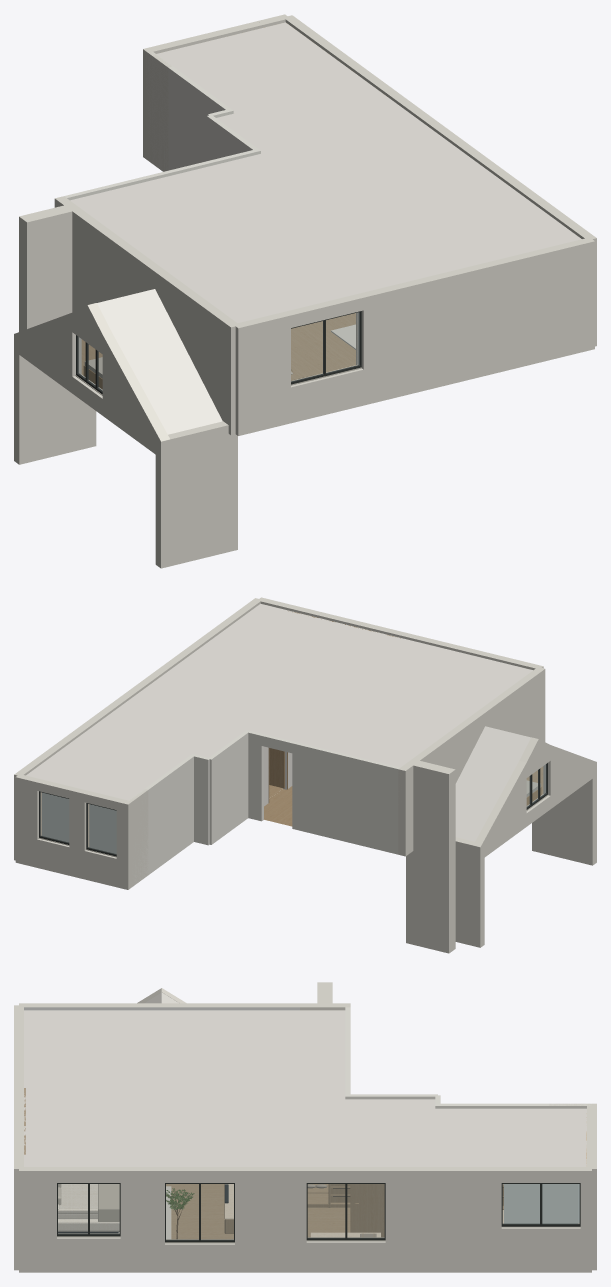
3 renders of one model, top to bottom at view 1: azimuth 30°, elevation 25°; view 2: azimuth 150°, elevation 25°; view 3: azimuth 270°, elevation 25°, orthographic. The views are drawn at different scales.
Parts seen in each view (by area): view 1: Bedroom 02 | ceiling 0, Proposal | New wing south upper end pier.001, Bedroom 02 | ceiling 2, Proposal | Garage wing south return.001, Proposal | West upper principal facade above wing roof.001, Bedroom 02 | retained vault soffit, Proposal | New wing south upper pier 0.001, Proposal | Garage wing north return.001, Proposal | Entrance bay south return.001, Proposal | Guest bathroom west.001, Proposal | New wing south upper window 0 glass.001, Proposal | Continued roof garage wing gable south head 0.001 (+15 smaller); view 2: Bedroom 02 | ceiling 0, Bedroom 02 | ceiling 2, Proposal | Principal suite north partition pier 0.001, Proposal | Entrance bay south return.001, Bedroom 02 | retained vault soffit.001, Proposal | West upper principal facade above wing roof.001, Proposal | Guest bathroom west.001, Proposal | Garage wing south return.001, Proposal | Principal study west wall.001, Proposal | Garage wing north return.001, Proposal | Courtyard upper return.001, Proposal | North upper facade east end pier.001 (+21 smaller); view 3: Bedroom 02 | ceiling 0, Bedroom 02 | ceiling 2, Proposal | New wing east upper end pier.001, Proposal | New wing east upper pier 2.001, Proposal | New wing east upper pier 1.001, Proposal | New wing east upper window 2 glass.001, Proposal | New wing east upper pier 0.001, Proposal | New wing east upper window 1 glass.001, Proposal | New wing east upper sill 3, Proposal | New wing east upper window 0 glass.001, Proposal | New wing east upper window 3 glass, Ensuite 01 | bath window obscure pane (+20 smaller).
Part boxes in pixels (x1=…): Bedroom 02 | ceiling 0: x1=70, y1=154, x2=581, y2=322; Proposal | New wing south upper end pier.001: x1=358, y1=237, x2=594, y2=405; Bedroom 02 | ceiling 2: x1=156, y1=22, x2=464, y2=190; Proposal | Garage wing south return.001: x1=155, y1=421, x2=237, y2=568; Proposal | West upper principal facade above wing roof.001: x1=81, y1=216, x2=237, y2=421; Bedroom 02 | retained vault soffit: x1=97, y1=289, x2=222, y2=434; Proposal | New wing south upper pier 0.001: x1=233, y1=311, x2=290, y2=435; Proposal | Garage wing north return.001: x1=14, y1=335, x2=96, y2=464; Proposal | Entrance bay south return.001: x1=19, y1=203, x2=81, y2=331; Proposal | Guest bathroom west.001: x1=145, y1=50, x2=231, y2=171; Proposal | New wing south upper window 0 glass.001: x1=291, y1=312, x2=359, y2=381; Proposal | Continued roof garage wing gable south head 0.001: x1=102, y1=332, x2=169, y2=441; Bedroom 02 | ceiling 0: x1=166, y1=603, x2=532, y2=767; Bedroom 02 | ceiling 2: x1=26, y1=673, x2=286, y2=800; Proposal | Principal suite north partition pier 0.001: x1=292, y1=741, x2=401, y2=854; Proposal | Entrance bay south return.001: x1=406, y1=761, x2=455, y2=953; Bedroom 02 | retained vault soffit.001: x1=455, y1=726, x2=530, y2=841; Proposal | West upper principal facade above wing roof.001: x1=420, y1=668, x2=543, y2=774; Proposal | Guest bathroom west.001: x1=128, y1=754, x2=193, y2=885; Proposal | Garage wing south return.001: x1=532, y1=763, x2=596, y2=865; Proposal | Principal study west wall.001: x1=208, y1=730, x2=248, y2=844; Proposal | Garage wing north return.001: x1=455, y1=837, x2=484, y2=947; Proposal | Courtyard upper return.001: x1=124, y1=789, x2=148, y2=889; Proposal | North upper facade east end pier.001: x1=15, y1=774, x2=40, y2=867; Bedroom 02 | ceiling 0: x1=24, y1=1010, x2=345, y2=1166; Bedroom 02 | ceiling 2: x1=249, y1=1099, x2=586, y2=1166; Proposal | New wing east upper end pier.001: x1=385, y1=1167, x2=501, y2=1272; Proposal | New wing east upper pier 2.001: x1=235, y1=1167, x2=306, y2=1272; Proposal | New wing east upper pier 1.001: x1=120, y1=1167, x2=164, y2=1272; Proposal | New wing east upper window 2 glass.001: x1=308, y1=1184, x2=384, y2=1237; Proposal | New wing east upper pier 0.001: x1=19, y1=1167, x2=56, y2=1272; Proposal | New wing east upper window 1 glass.001: x1=166, y1=1184, x2=233, y2=1239; Proposal | New wing east upper sill 3: x1=501, y1=1227, x2=580, y2=1272; Proposal | New wing east upper window 0 glass.001: x1=58, y1=1184, x2=119, y2=1233; Proposal | New wing east upper window 3 glass: x1=503, y1=1184, x2=579, y2=1223; Ensuite 01 | bath window obscure pane: x1=504, y1=1184, x2=578, y2=1223.
Size of the model in its own units: 10.72 by 5.35 by 13.28.
Materials: 36 (3 with a texture image).
